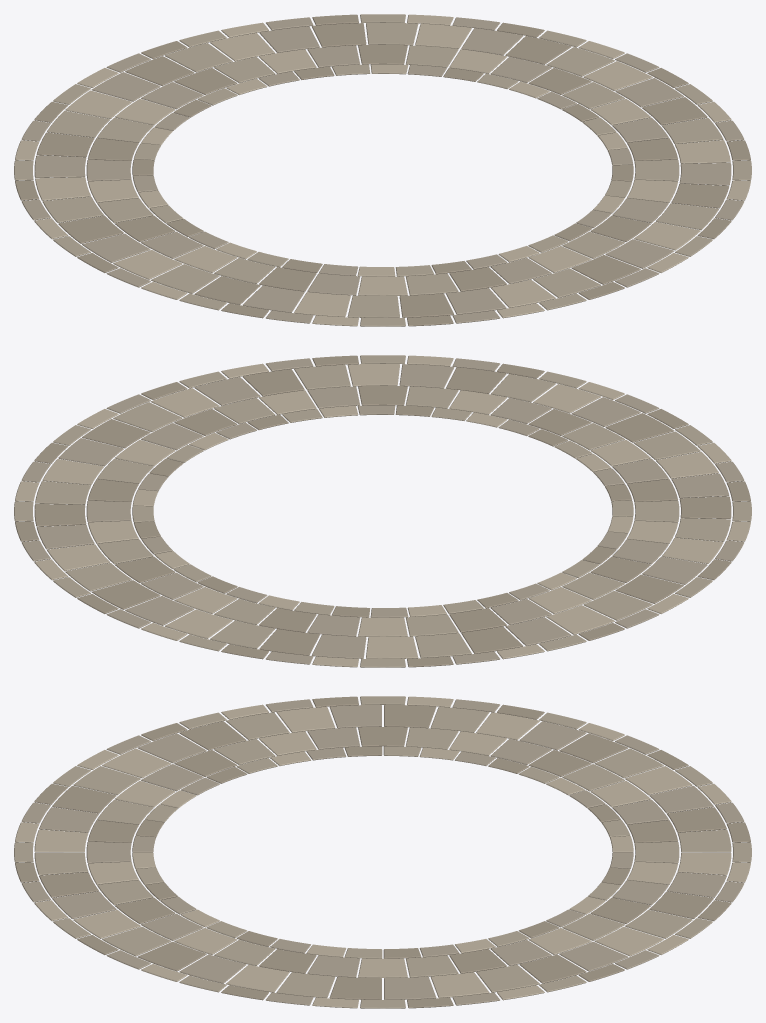
File: fountain_apron.glb
The picture shows the model from 3 angles, top to bottom: view 1: azimuth 30°, elevation 25°; view 2: azimuth 150°, elevation 25°; view 3: azimuth 270°, elevation 25°; orthographic projection.
Visible parts, largest first — view 1: fountain_apron; view 2: fountain_apron; view 3: fountain_apron.
Part boxes in pixels (bbox=[...]): fountain_apron: bbox=[14, 14, 751, 326]; fountain_apron: bbox=[14, 355, 751, 667]; fountain_apron: bbox=[14, 696, 751, 1008].
Size of the model in its own units: 9.36 by 0.018 by 9.36.
